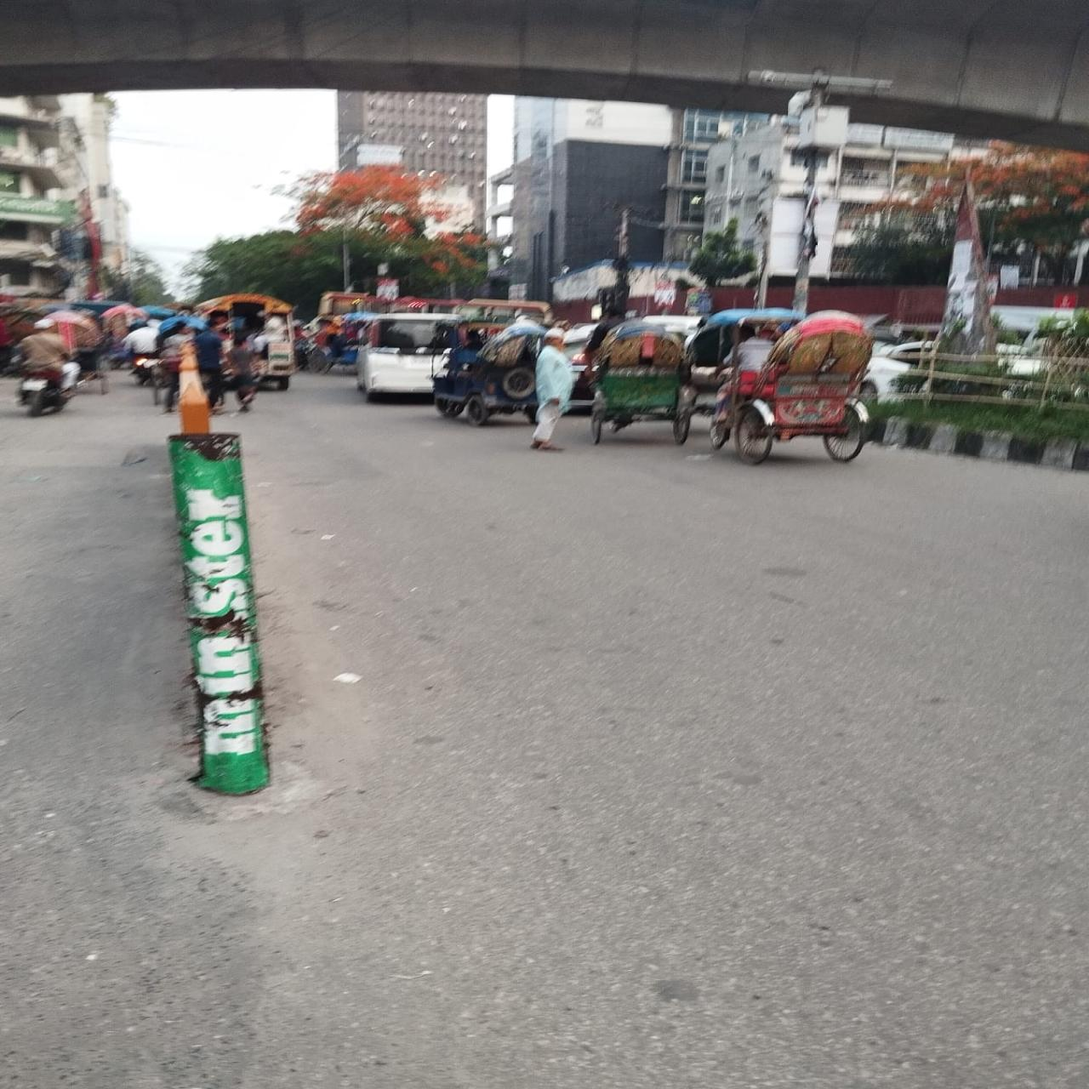person: (530, 329, 575, 453), (226, 333, 261, 412)
